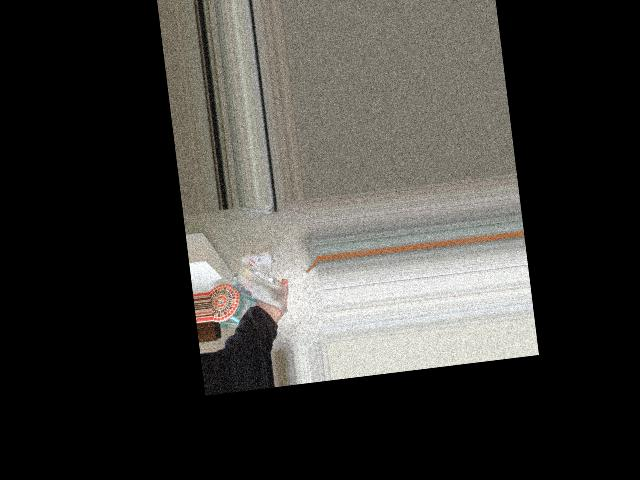cheese: (211, 243, 295, 324)
